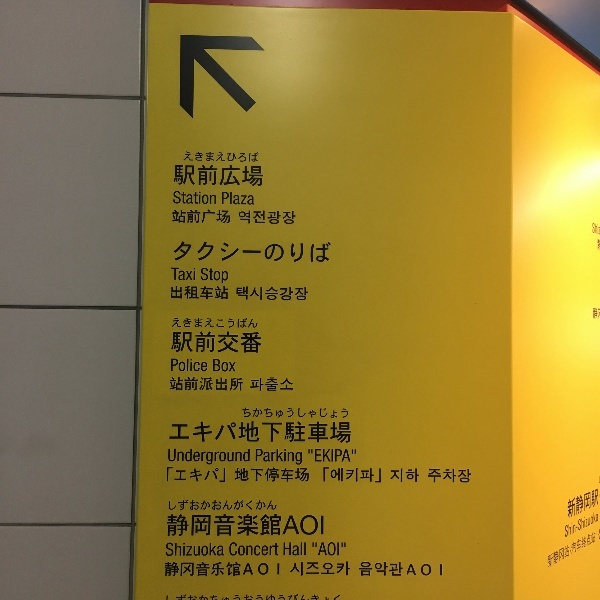text: (561, 531, 576, 569), (577, 531, 592, 569), (547, 531, 560, 569), (577, 489, 592, 519), (577, 511, 592, 538), (177, 515, 192, 539), (193, 515, 208, 539), (209, 515, 224, 539), (225, 515, 240, 539), (241, 515, 256, 539), (257, 515, 272, 539), (273, 515, 288, 539), (289, 515, 304, 539), (305, 515, 320, 539), (177, 242, 192, 265), (193, 242, 208, 265), (209, 242, 224, 265), (225, 242, 240, 265), (241, 242, 256, 265), (257, 242, 272, 265), (273, 242, 288, 265), (289, 242, 304, 265), (305, 242, 320, 265), (177, 331, 192, 354), (193, 331, 208, 354), (209, 331, 224, 354), (225, 331, 240, 354), (241, 331, 256, 354), (177, 422, 192, 445), (193, 422, 208, 445), (209, 422, 224, 445), (225, 422, 240, 445), (241, 422, 256, 445), (257, 422, 272, 445), (273, 422, 288, 445), (289, 422, 304, 445), (305, 422, 320, 445), (321, 422, 336, 445), (337, 422, 352, 445), (177, 165, 192, 187), (193, 165, 208, 187), (209, 165, 224, 187), (225, 165, 240, 187), (241, 165, 256, 187), (566, 511, 576, 538), (209, 268, 224, 285), (177, 449, 192, 466), (193, 449, 208, 466), (209, 449, 224, 466), (225, 449, 240, 466), (257, 449, 272, 466), (273, 449, 288, 466), (177, 209, 192, 225), (193, 209, 208, 225), (209, 209, 224, 225), (177, 467, 192, 483), (193, 467, 208, 483), (209, 467, 224, 483), (209, 542, 225, 557), (177, 562, 192, 578), (193, 562, 208, 578), (209, 562, 224, 578), (225, 562, 240, 578), (241, 562, 256, 578), (257, 562, 272, 578), (568, 489, 576, 519), (337, 467, 352, 483), (353, 467, 368, 483), (321, 242, 331, 265), (177, 285, 192, 300), (193, 285, 208, 300), (209, 285, 224, 300), (177, 377, 192, 392), (193, 377, 208, 392), (209, 377, 224, 392), (225, 377, 240, 392), (241, 468, 256, 483), (257, 468, 272, 483), (273, 468, 288, 483), (289, 468, 304, 483), (177, 542, 192, 557), (193, 542, 208, 557), (241, 287, 256, 302), (257, 287, 272, 302), (273, 287, 288, 302), (289, 287, 304, 302), (257, 377, 272, 392), (273, 377, 288, 392), (401, 468, 416, 483), (369, 562, 384, 577), (385, 562, 400, 577), (401, 562, 416, 577), (417, 562, 432, 577), (289, 449, 302, 466), (177, 191, 192, 205), (193, 191, 208, 205), (225, 192, 240, 206), (241, 210, 256, 224), (257, 210, 272, 224), (273, 210, 288, 224), (241, 543, 256, 557), (257, 543, 272, 557), (321, 542, 336, 556), (433, 469, 448, 483), (449, 469, 464, 483), (305, 562, 320, 576), (321, 562, 336, 576), (241, 192, 255, 206), (290, 562, 304, 576), (337, 562, 351, 576), (177, 268, 192, 281), (177, 359, 192, 372), (193, 359, 208, 372), (321, 449, 336, 462), (337, 449, 352, 462), (289, 543, 304, 556), (168, 515, 176, 539), (324, 467, 336, 483), (369, 467, 381, 483), (193, 151, 208, 163), (209, 151, 224, 163), (225, 151, 240, 163), (241, 151, 256, 163), (257, 407, 272, 419), (273, 407, 288, 419), (289, 407, 304, 419), (305, 407, 320, 419), (321, 407, 336, 419), (177, 499, 192, 511), (193, 499, 208, 511), (209, 499, 224, 511), (225, 499, 240, 511), (241, 499, 256, 511), (257, 499, 272, 511), (593, 489, 599, 519), (165, 562, 176, 578), (177, 318, 192, 329), (193, 318, 208, 329), (209, 318, 224, 329), (225, 318, 240, 329), (241, 318, 256, 329), (593, 511, 599, 538), (243, 407, 256, 419), (257, 165, 264, 187), (229, 543, 240, 557), (241, 449, 250, 466), (166, 542, 176, 557), (433, 562, 443, 577), (337, 407, 349, 419), (167, 467, 176, 483), (213, 359, 224, 372), (225, 359, 236, 372), (309, 449, 320, 462), (391, 468, 400, 483), (359, 562, 368, 577), (337, 542, 346, 556), (201, 268, 208, 285), (169, 449, 176, 466), (257, 331, 262, 354), (171, 422, 176, 445), (593, 531, 596, 569), (209, 191, 217, 205), (289, 210, 297, 224), (273, 562, 280, 578), (313, 542, 320, 556), (184, 151, 192, 163), (225, 209, 231, 225), (172, 331, 176, 354), (170, 377, 176, 392), (169, 499, 176, 511), (273, 543, 279, 557), (465, 469, 471, 483), (171, 285, 176, 300), (235, 468, 240, 483), (251, 377, 256, 392), (321, 515, 324, 539), (225, 268, 229, 285), (171, 268, 176, 281), (225, 285, 229, 300), (305, 468, 309, 483), (177, 596, 192, 600), (193, 596, 208, 600), (209, 596, 224, 600), (225, 596, 240, 600), (241, 596, 256, 600), (257, 596, 272, 600), (273, 596, 288, 600), (289, 596, 304, 600), (305, 596, 320, 600), (321, 596, 336, 600), (289, 377, 293, 392), (428, 469, 432, 483), (172, 359, 176, 372), (284, 543, 288, 556), (173, 209, 176, 225), (273, 499, 277, 511), (237, 287, 240, 302), (305, 287, 308, 302), (193, 268, 196, 281), (353, 449, 356, 462), (167, 596, 176, 600), (173, 318, 176, 329), (241, 377, 243, 392), (417, 468, 419, 483), (174, 191, 176, 205), (222, 192, 224, 206), (257, 151, 259, 163), (175, 242, 176, 265), (175, 165, 176, 187), (257, 318, 259, 329), (598, 529, 600, 539), (225, 467, 226, 483), (337, 596, 341, 600), (239, 210, 240, 224), (305, 543, 306, 556)
